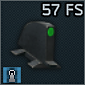FN Five-seveN MK2 front sight: (0, 0, 85, 85)
